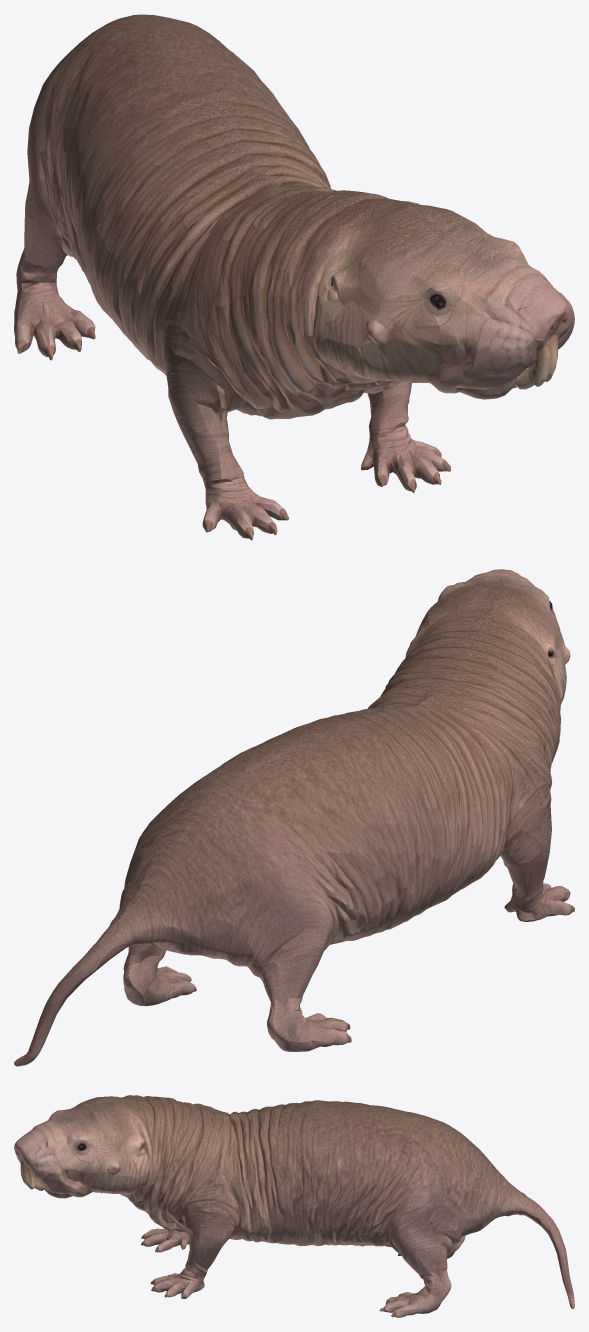
Rendered from naked-mole-rat.glb.
3 views of the same model, one above another, from view 1: azimuth 30°, elevation 25°; view 2: azimuth 150°, elevation 25°; view 3: azimuth 270°, elevation 25° (orthographic). The views are drawn at different scales.
Bounding box in the file's own units: 0.6836 × 0.649 × 1.9.
1 material, 1 textured.
